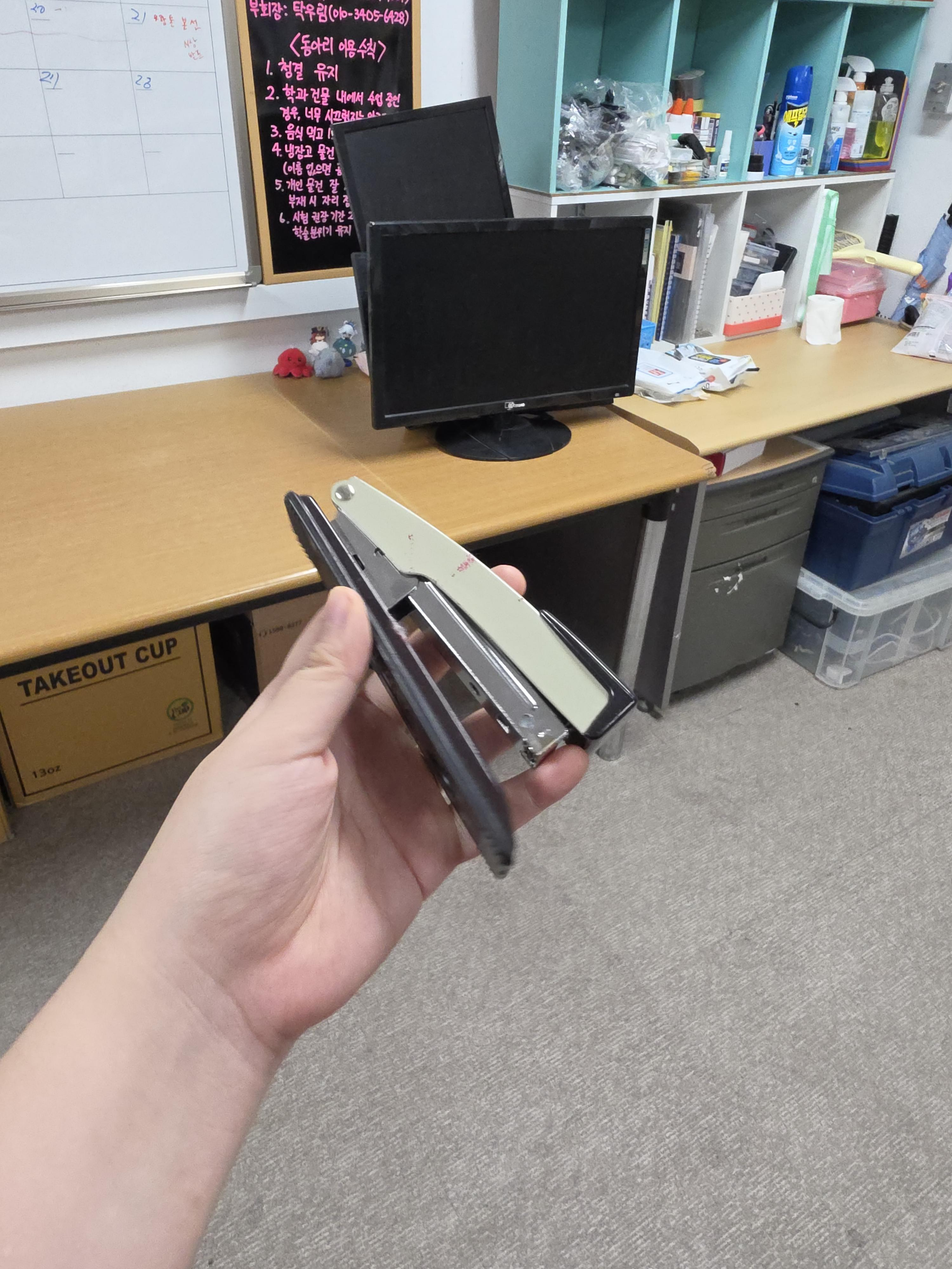stapler: (283, 475, 640, 880)
tissue: (723, 271, 787, 337), (800, 294, 844, 346)
